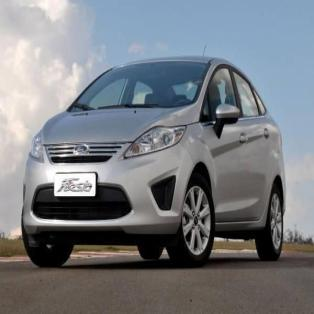Auto: (21, 55, 290, 266)
